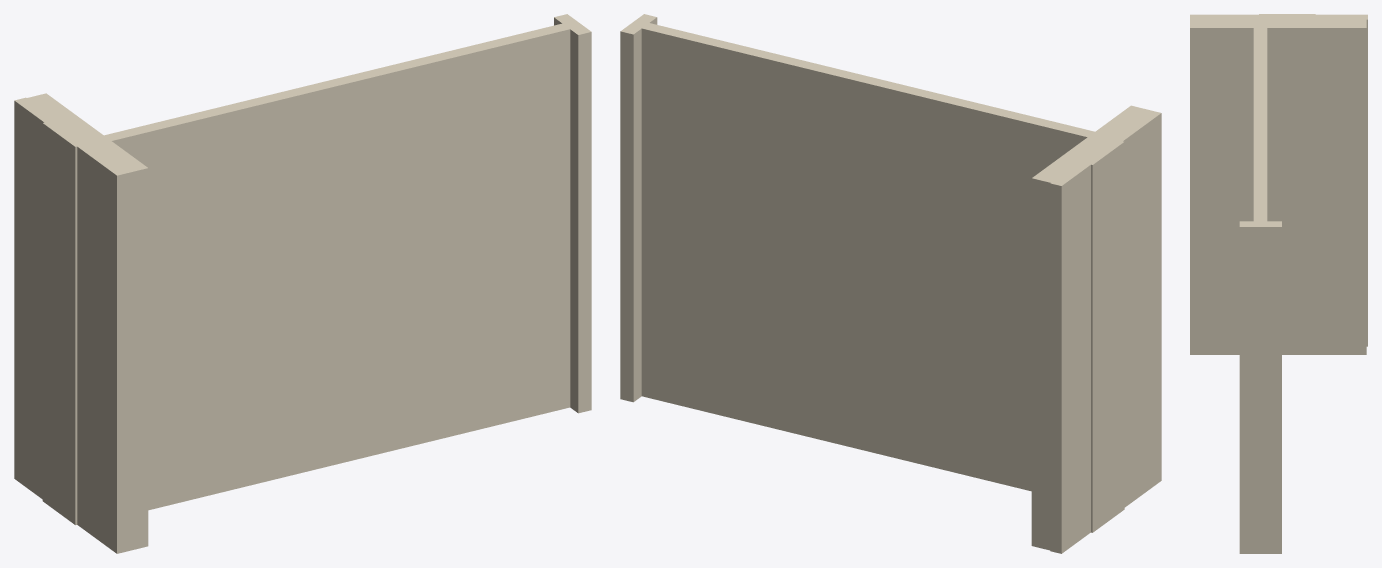
3 renders of one model, left to right at view 1: azimuth 30°, elevation 25°; view 2: azimuth 150°, elevation 25°; view 3: azimuth 270°, elevation 25°, orthographic. The views are drawn at different scales.
Parts seen in each view (by area): view 1: A-FF-WALL-002; view 2: A-FF-WALL-002; view 3: A-FF-WALL-002.
Part boxes in pixels (box(x1,y1,x2,y2)): A-FF-WALL-002: box(14, 14, 591, 553); A-FF-WALL-002: box(620, 14, 1161, 553); A-FF-WALL-002: box(1190, 14, 1367, 553).
Bounding box in the file's own units: 3.38 × 2.42 × 1.19.
